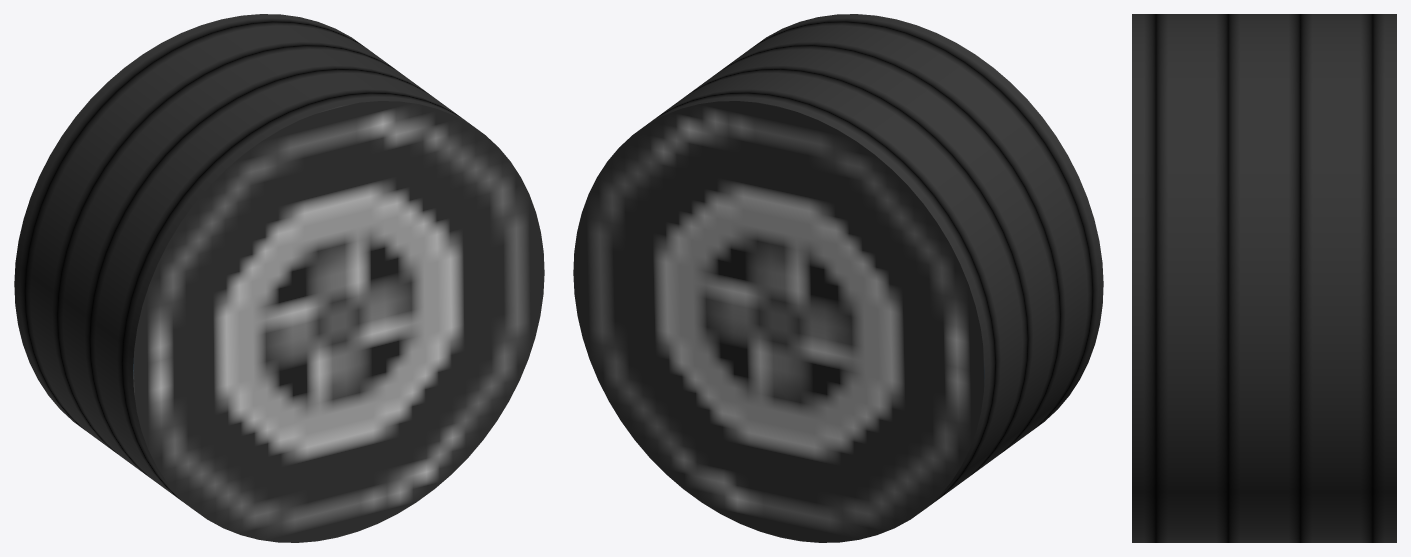
The model's file is lem2w.obj.
The picture shows the model from 3 angles, left to right: view 1: azimuth 30°, elevation 25°; view 2: azimuth 150°, elevation 25°; view 3: azimuth 270°, elevation 25°; orthographic projection. The views are drawn at different scales.
Parts seen in each view (by area): view 1: ColobotMesh_1_ColobotMesh_; view 2: ColobotMesh_1_ColobotMesh_; view 3: ColobotMesh_1_ColobotMesh_.
Part boxes in pixels (left/top/right/bottom): ColobotMesh_1_ColobotMesh_: left=14, top=14, right=544, bottom=542; ColobotMesh_1_ColobotMesh_: left=573, top=14, right=1103, bottom=542; ColobotMesh_1_ColobotMesh_: left=1132, top=14, right=1396, bottom=542.
Bounding box in the file's own units: 2 × 2 × 1.
